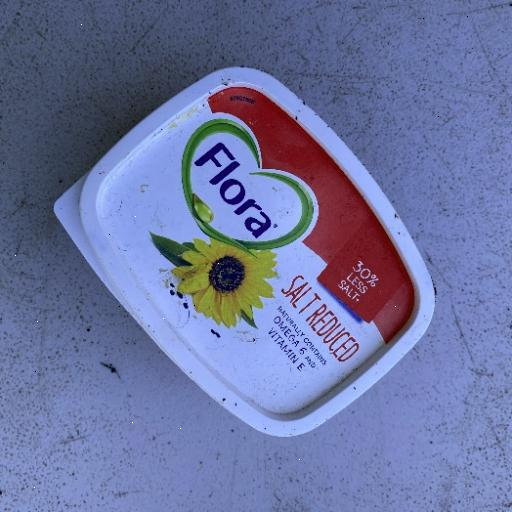Plastic: (54, 66, 436, 436)
